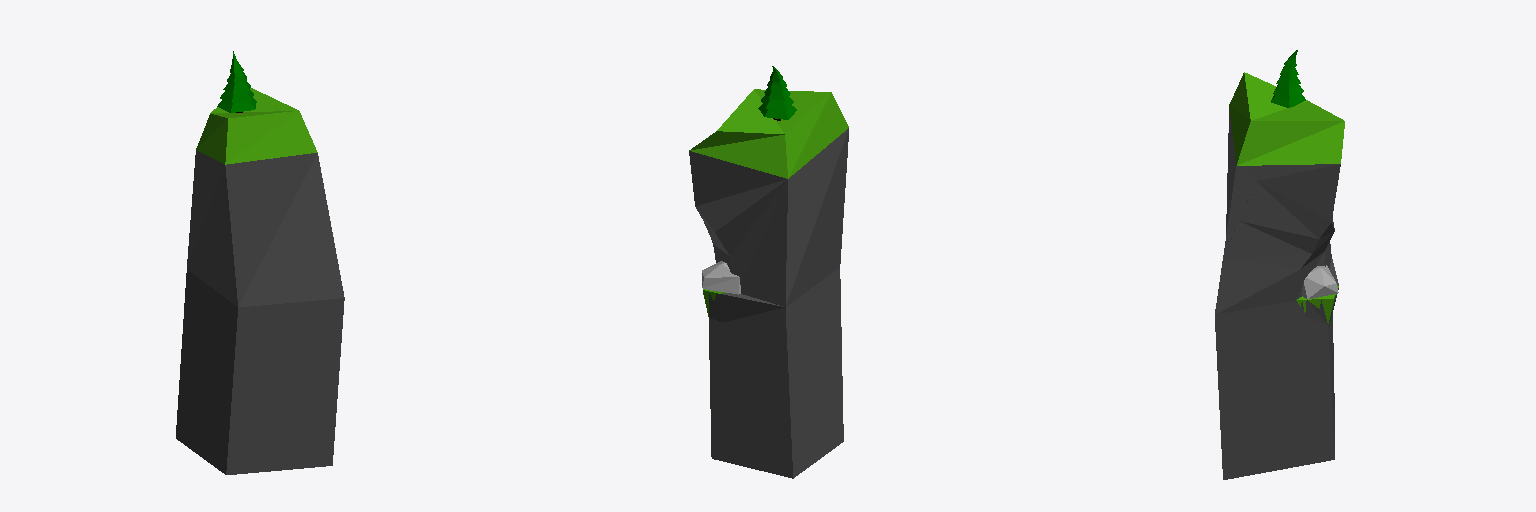
The model's file is mount-stone.obj.
The picture shows the model from 3 angles: view 1: azimuth 30°, elevation 25°; view 2: azimuth 150°, elevation 25°; view 3: azimuth 270°, elevation 25°; orthographic projection.
Visible parts, largest first — view 1: Cube_Cube.001, Cylinder.001; view 2: Cube_Cube.001, Cylinder.001, Icosphere.002; view 3: Cube_Cube.001, Cylinder.001, Icosphere.002.
Boxes of the visible parts, x1,y1,x2,y2 form: Cube_Cube.001: [176, 88, 344, 474]; Cylinder.001: [217, 51, 256, 112]; Cube_Cube.001: [689, 89, 848, 478]; Cylinder.001: [758, 66, 796, 120]; Icosphere.002: [702, 261, 740, 294]; Cube_Cube.001: [1215, 72, 1344, 479]; Cylinder.001: [1271, 50, 1305, 107]; Icosphere.002: [1301, 265, 1338, 299].
Size of the model in its own units: 1.78 by 6.1 by 1.8.